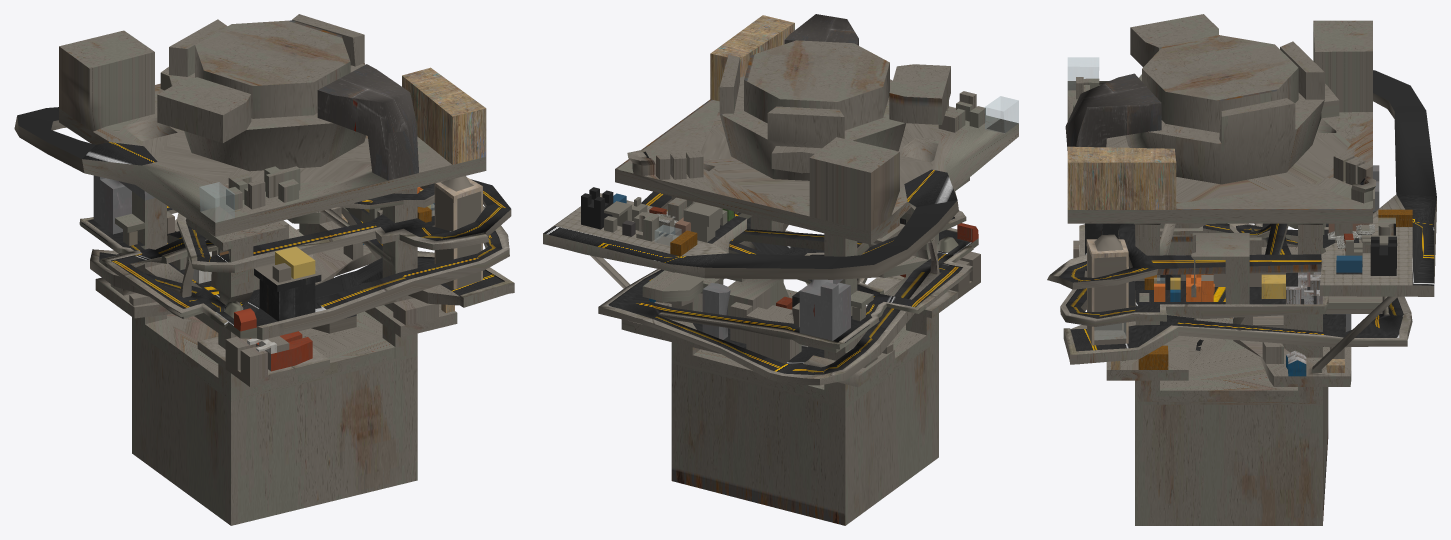
File: sproutstylecity4.gltf
The picture shows the model from 3 angles, left to right: view 1: azimuth 30°, elevation 25°; view 2: azimuth 150°, elevation 25°; view 3: azimuth 270°, elevation 25°; orthographic projection. The views are drawn at different scales.
Parts seen in each view (by area): view 1: citybase; view 2: citybase; view 3: citybase.
Boxes of the visible parts, x1,y1,x2,y2 form: citybase: (14, 14, 514, 525); citybase: (543, 14, 1018, 525); citybase: (1047, 14, 1436, 525).
Bounding box in the file's own units: 129 × 145 × 125.
